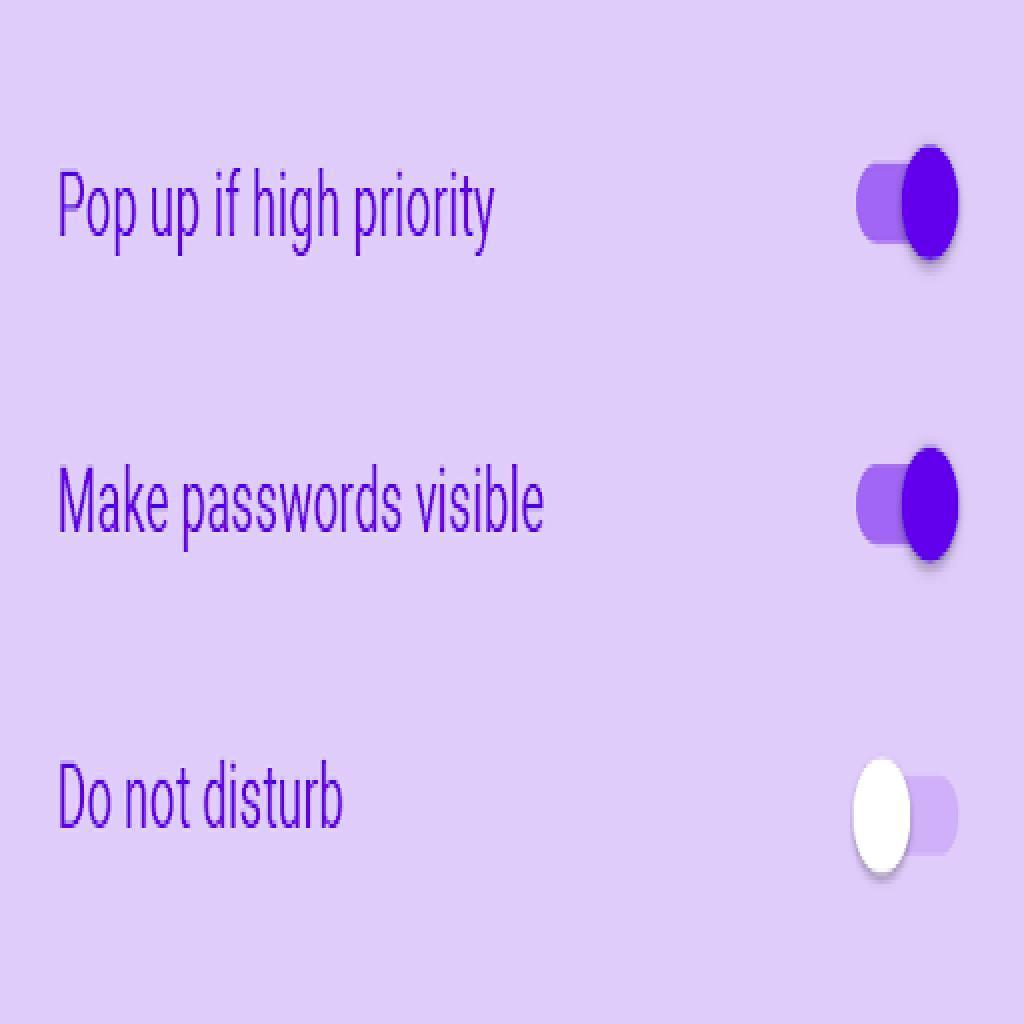label: (47, 460, 556, 556), (60, 162, 500, 268), (48, 754, 360, 847)
switch: (853, 749, 964, 888), (852, 136, 965, 269), (853, 437, 961, 569)
